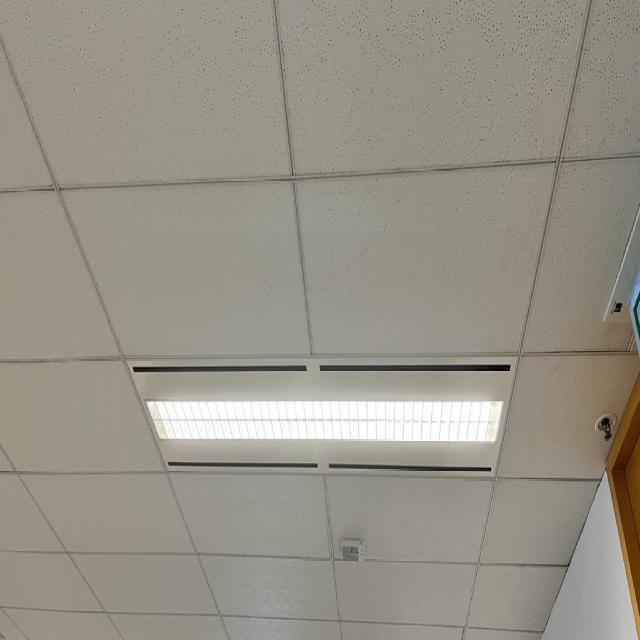Light-Opened: (123, 352, 521, 479)
